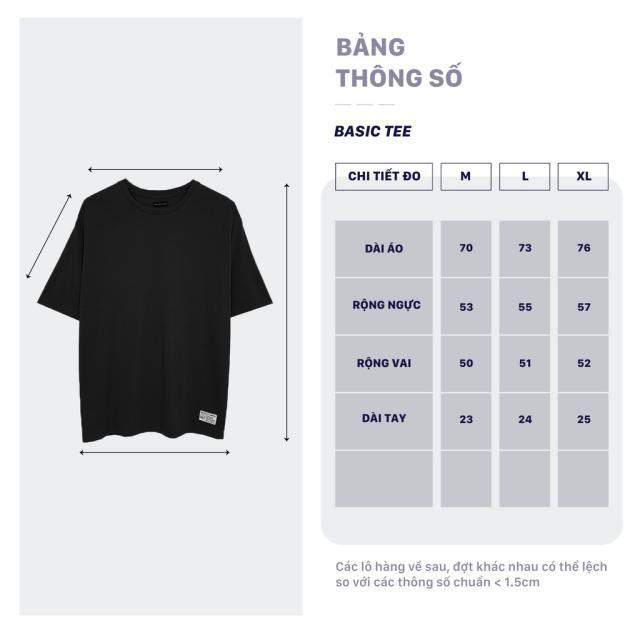Shirt: (32, 167, 275, 457)
